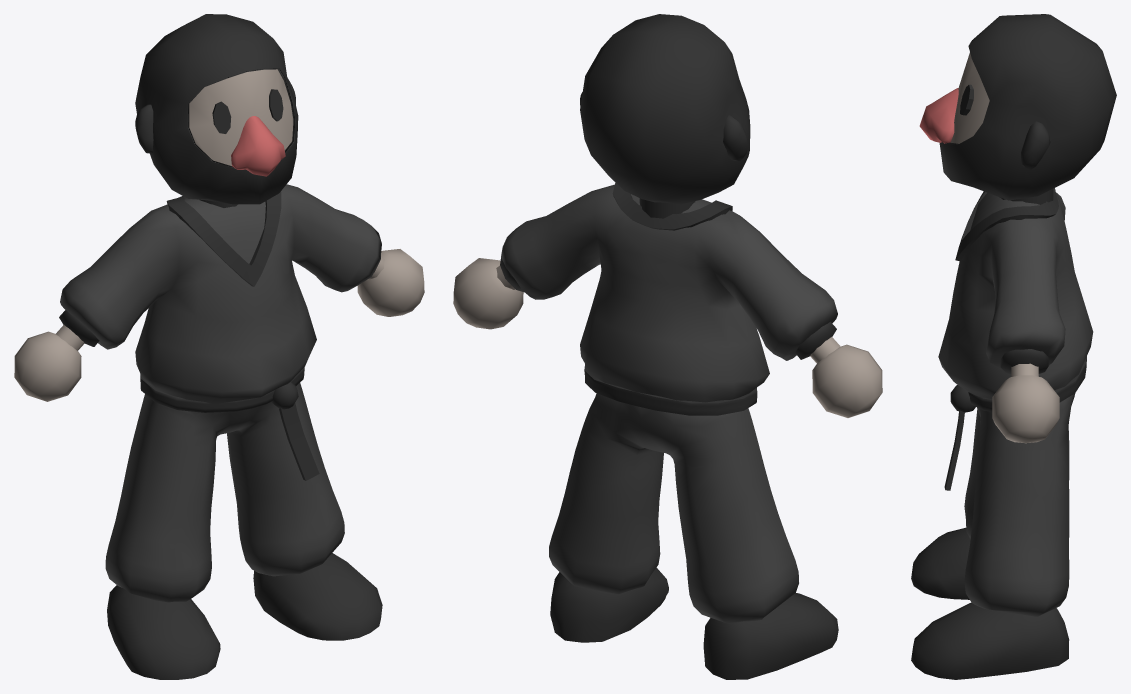
Rendered from perso_joueur.fbx.
The picture shows the model from 3 angles, left to right: view 1: azimuth 30°, elevation 25°; view 2: azimuth 150°, elevation 25°; view 3: azimuth 270°, elevation 25°; orthographic projection. The views are drawn at different scales.
Parts seen in each view (by area): view 1: polySurface14, polySurface25, cagoule, perso_joueur1_pSphere4, perso_joueur1_pSphere3, polySurface2, polySurface15, nez, polySurface21, polySurface13, polySurface6; view 2: polySurface14, polySurface25, cagoule, perso_joueur1_pSphere4, perso_joueur1_pSphere3, polySurface21, polySurface15, polySurface6, pCylinder1; view 3: cagoule, polySurface14, polySurface25, perso_joueur1_pSphere3, perso_joueur1_pSphere4, polySurface15, polySurface2, nez, polySurface30, polySurface21, polySurface13, pSphere3.
Part boxes in pixels (bbox=[...]): polySurface14: bbox=[60, 184, 381, 404]; polySurface25: bbox=[105, 382, 344, 602]; cagoule: bbox=[135, 14, 298, 204]; perso_joueur1_pSphere4: bbox=[14, 310, 220, 679]; perso_joueur1_pSphere3: bbox=[253, 249, 424, 640]; polySurface2: bbox=[189, 69, 293, 165]; polySurface15: bbox=[166, 191, 281, 286]; nez: bbox=[231, 116, 285, 176]; polySurface21: bbox=[140, 367, 304, 412]; polySurface13: bbox=[279, 403, 319, 480]; polySurface6: bbox=[135, 104, 153, 153]; polySurface14: bbox=[501, 184, 837, 402]; polySurface25: bbox=[549, 393, 798, 623]; cagoule: bbox=[580, 14, 750, 204]; perso_joueur1_pSphere4: bbox=[703, 321, 882, 679]; perso_joueur1_pSphere3: bbox=[453, 257, 668, 642]; polySurface21: bbox=[584, 364, 757, 415]; polySurface15: bbox=[612, 182, 732, 230]; polySurface6: bbox=[723, 115, 747, 160]; pCylinder1: bbox=[639, 198, 695, 218]; cagoule: bbox=[939, 14, 1116, 200]; polySurface14: bbox=[938, 188, 1093, 399]; polySurface25: bbox=[964, 393, 1075, 616]; perso_joueur1_pSphere3: bbox=[911, 349, 1069, 679]; perso_joueur1_pSphere4: bbox=[911, 527, 970, 599]; polySurface15: bbox=[955, 189, 1058, 261]; polySurface2: bbox=[950, 53, 989, 143]; nez: bbox=[919, 88, 958, 143]; polySurface30: bbox=[1021, 121, 1050, 169]; polySurface21: bbox=[968, 356, 1086, 411]; polySurface13: bbox=[944, 410, 964, 490]; pSphere3: bbox=[950, 385, 975, 412].
Size of the model in its own units: 2.63 by 3.71 by 1.15.
